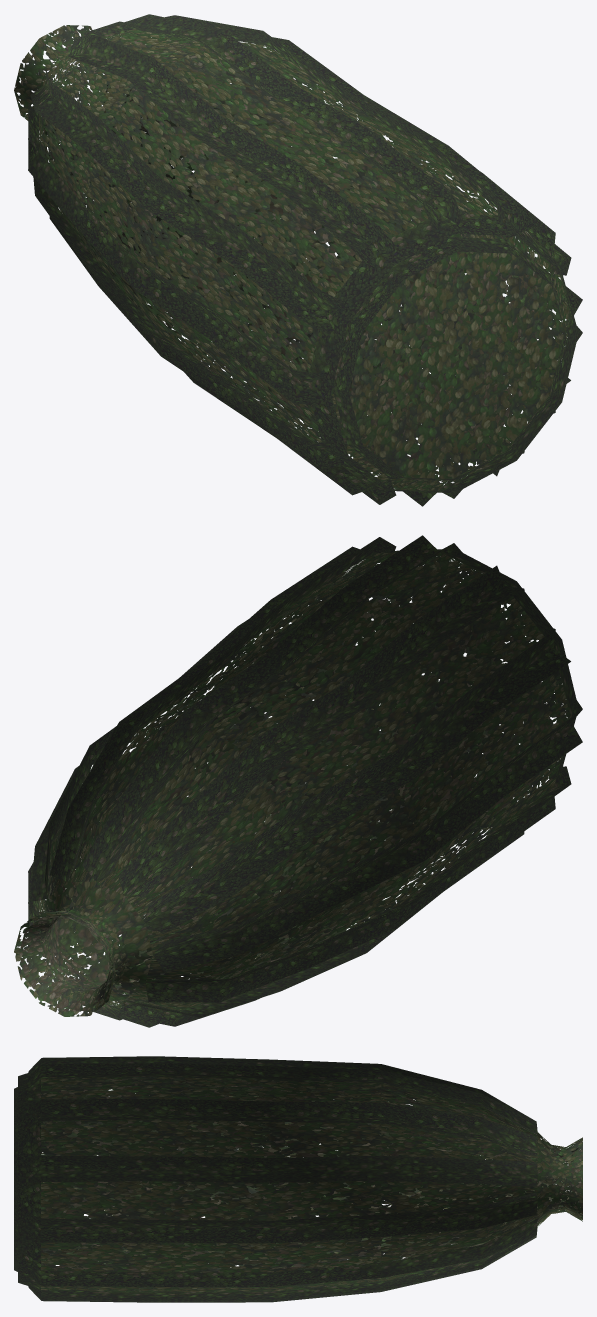
File: nt_2020_foliage_hedge_rounded01_LOD0.obj
The picture shows the model from 3 angles, top to bottom: view 1: azimuth 30°, elevation 25°; view 2: azimuth 150°, elevation 25°; view 3: azimuth 270°, elevation 25°; orthographic projection. The views are drawn at different scales.
Visible parts, largest first — view 1: mtl_p6_foliage_hedge2, mtl_p6_foliage_hedge_edge, mtl_p6_foliage_hedge_no_alpha; view 2: mtl_p6_foliage_hedge_edge, mtl_p6_foliage_hedge2, mtl_p6_foliage_hedge_no_alpha; view 3: mtl_p6_foliage_hedge_edge, mtl_p6_foliage_hedge2, mtl_p6_foliage_hedge_no_alpha.
Boxes of the visible parts, box(x1,y1,x2,y2) form: mtl_p6_foliage_hedge2: box(14, 25, 571, 490); mtl_p6_foliage_hedge_edge: box(28, 14, 582, 506); mtl_p6_foliage_hedge_no_alpha: box(20, 30, 549, 470); mtl_p6_foliage_hedge_edge: box(28, 535, 582, 1027); mtl_p6_foliage_hedge2: box(14, 552, 570, 1016); mtl_p6_foliage_hedge_no_alpha: box(19, 570, 551, 1011); mtl_p6_foliage_hedge_edge: box(14, 1056, 537, 1302); mtl_p6_foliage_hedge2: box(41, 1076, 582, 1292); mtl_p6_foliage_hedge_no_alpha: box(41, 1078, 582, 1272).
Bounding box in the file's own units: 122 × 122 × 281.
